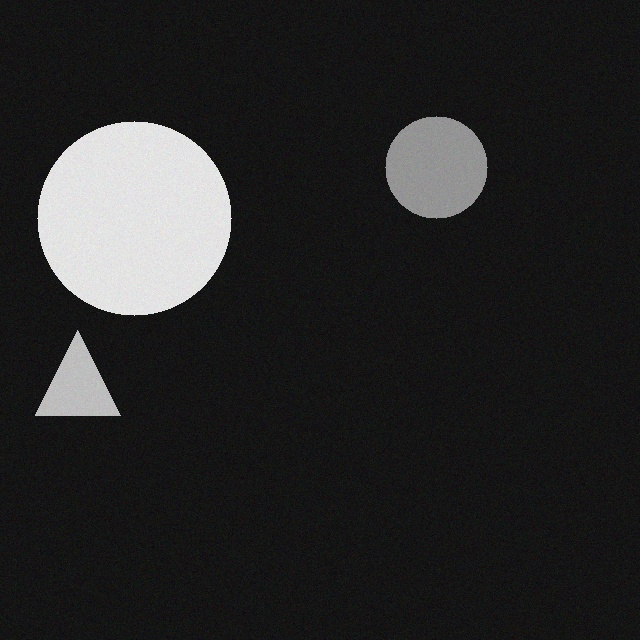circle: (32, 134, 226, 328), (380, 129, 482, 231)
triangle: (30, 343, 115, 428)
